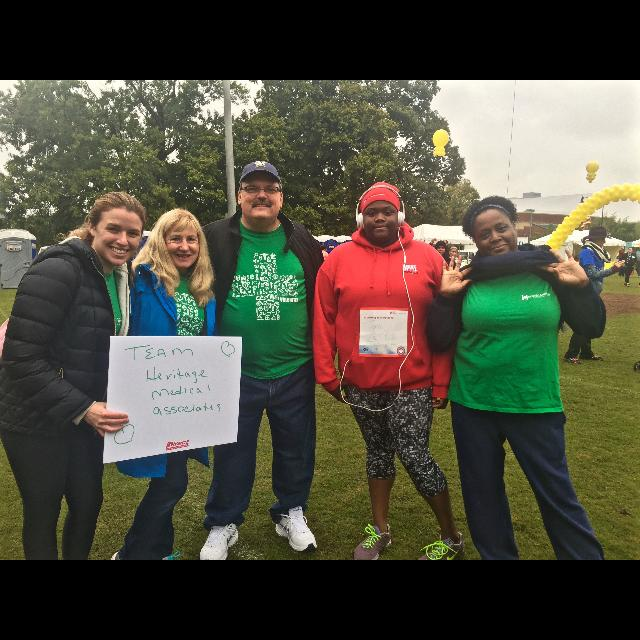head: (86, 197, 146, 267), (469, 200, 519, 260), (155, 209, 201, 269), (237, 169, 285, 221), (361, 192, 402, 242), (589, 230, 607, 248), (627, 247, 633, 253), (620, 248, 624, 254)
person: (562, 225, 626, 367), (620, 248, 636, 288), (616, 246, 628, 278)
